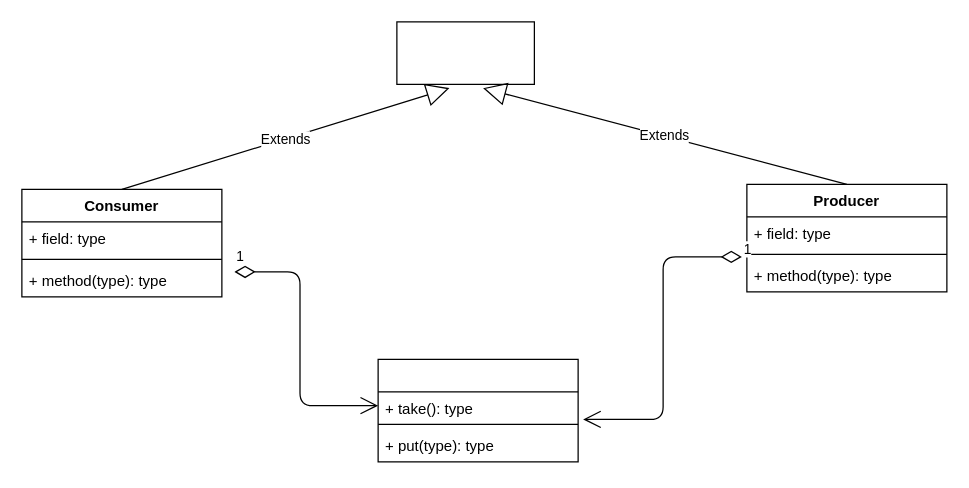
This 969x488 diagram has some shape labels left out. The box of each missing label's shape, as (x1, y1, x2, y2) in pixels:
Docker: (377, 358, 578, 462)
«interface» Runable: (396, 21, 534, 84)
